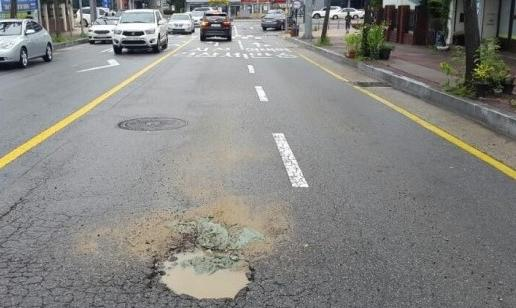pothole: (134, 238, 266, 308)
